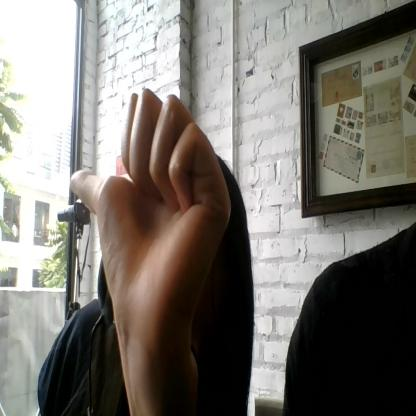right: (69, 89, 231, 326)
